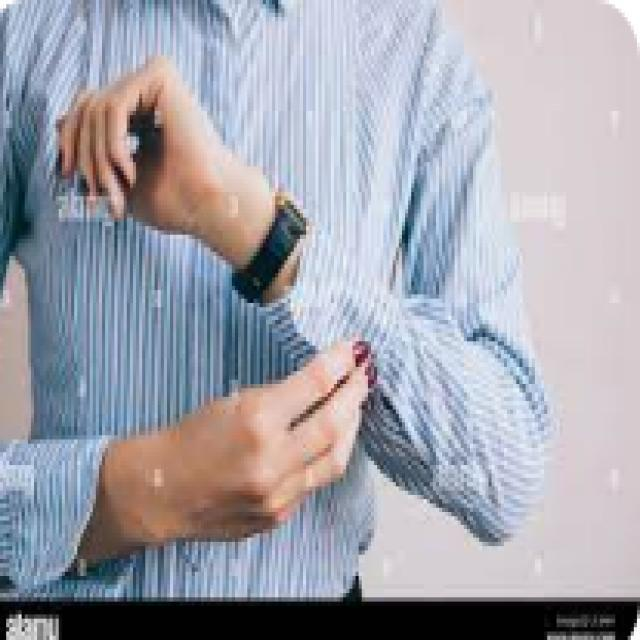Watch: (234, 188, 314, 304)
